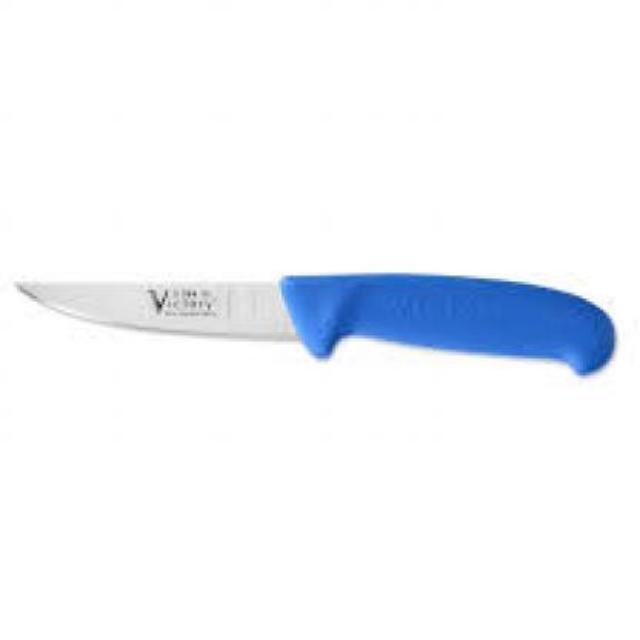Knife: (17, 274, 620, 374)
